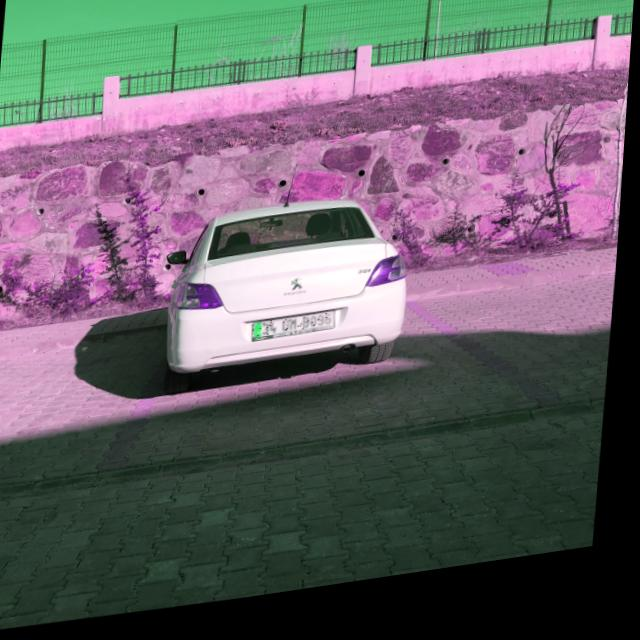license_plate: (257, 322, 339, 347)
